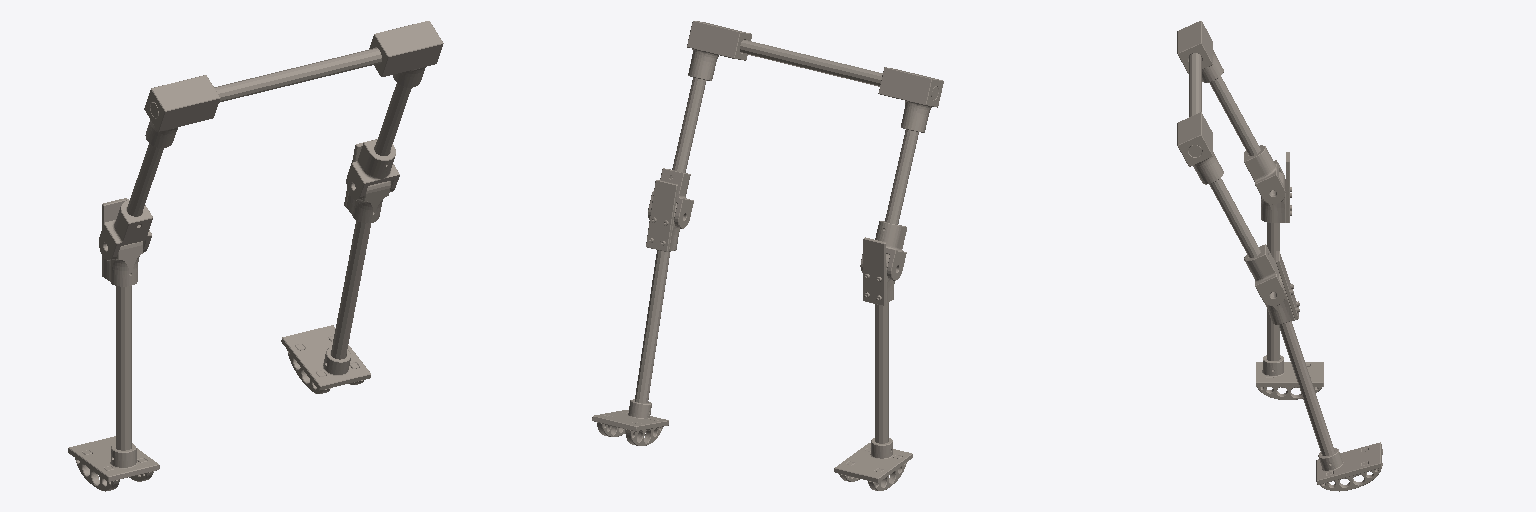
URDF robot description (walker_design_1):
<?xml version="1.0" encoding="utf-8"?>
<!-- This URDF was automatically created by SolidWorks to URDF Exporter! Originally created by [author] ([email redacted]) 
     Commit Version: 1.6.0-4-g7f85cfe  Build Version: 1.6.7995.38578
     For more information, please see http://wiki.ros.org/sw_urdf_exporter -->
<!-- TODO: change the upper and lower limits at the second joint -->
<robot
  name="walker_design_1">
  <link name="dummy_link"/>
  <link
    name="base_link">
    <inertial>
      <origin
        xyz="0 0 2"
        rpy="0 0 0" />
      <mass
        value="0.267569070401216" />
      <inertia
        ixx="0.000172536724393951"
        ixy="-4.59106713126127E-10"
        ixz="-2.17267395122548E-10"
        iyy="0.000161431716131306"
        iyz="1.0118448030555E-06"
        izz="2.96593847131024E-05" />
    </inertial>
    <visual>
      <origin
        xyz="0 0 0"
        rpy="0 0 0" />
      <geometry>
        <mesh
          filename="package://walker_design_1/meshes/base_link.STL" />
      </geometry>
      <material
        name="">
        <color
          rgba="0.650980392156863 0.619607843137255 0.588235294117647 1" />
      </material>
    </visual>
    <collision>
      <origin
        xyz="0 0 0"
        rpy="0 0 0" />
      <geometry>
        <mesh
          filename="package://walker_design_1/meshes/base_link.STL" />
      </geometry>
    </collision>
  </link>
  <link
    name="thigh_link_1">
    <inertial>
      <origin
        xyz="-0.00953945791134029 -0.000129062991743527 0.0839499793115811"
        rpy="0 0 0" />
      <mass
        value="0.25524657446684" />
      <inertia
        ixx="7.78739221155232E-05"
        ixy="4.02865801707096E-10"
        ixz="-3.95323831127016E-06"
        iyy="9.11682657457718E-05"
        iyz="2.77858621837004E-07"
        izz="2.706581153651E-05" />
    </inertial>
    <visual>
      <origin
        xyz="0 0 0"
        rpy="0 0 0" />
      <geometry>
        <mesh
          filename="package://walker_design_1/meshes/thigh_link_1.STL" />
      </geometry>
      <material
        name="">
        <color
          rgba="0.650980392156863 0.619607843137255 0.588235294117647 1" />
      </material>
    </visual>
    <collision>
      <origin
        xyz="0 0 0"
        rpy="0 0 0" />
      <geometry>
        <mesh
          filename="package://walker_design_1/meshes/thigh_link_1.STL" />
      </geometry>
    </collision>
  </link>
  <joint
    name="thigh_joint_1"
    type="revolute">
    <origin
      xyz="-0.0015 -0.011999 0.16702"
      rpy="0.45856 0 0" />
    <parent
      link="base_link" />
    <child
      link="thigh_link_1" />
    <axis
      xyz="-1 0 0" />
    <limit
      lower="0"
      upper="90"
      effort="0"
      velocity="0" />
  </joint>
  <link
    name="connector_link">
    <inertial>
      <origin
        xyz="-0.1 3.46944695195361E-17 -1.27502175484295E-16"
        rpy="0 0 0" />
      <mass
        value="0.123307511449196" />
      <inertia
        ixx="1.54134389311495E-06"
        ixy="-4.79350452801533E-38"
        ixz="1.60778208521315E-37"
        iyy="0.000411795710110543"
        iyz="0"
        izz="0.000411795710110543" />
    </inertial>
    <visual>
      <origin
        xyz="0 0 0"
        rpy="0 0 0" />
      <geometry>
        <mesh
          filename="package://walker_design_1/meshes/connector_link.STL" />
      </geometry>
      <material
        name="">
        <color
          rgba="0.650980392156863 0.619607843137255 0.588235294117647 1" />
      </material>
    </visual>
    <collision>
      <origin
        xyz="0 0 0"
        rpy="0 0 0" />
      <geometry>
        <mesh
          filename="package://walker_design_1/meshes/connector_link.STL" />
      </geometry>
    </collision>
  </link>
  <joint
    name="connector_joint"
    type="fixed">
    <origin
      xyz="0.17577 0 0.13"
      rpy="0 0 0" />
    <parent
      link="thigh_link_1" />
    <child
      link="connector_link" />
    <axis
      xyz="0 0 0" />
  </joint>
  <link
    name="thigh_link_2">
    <inertial>
      <origin
        xyz="-0.0164605420028372 0.000129066384933044 0.0839499790240118"
        rpy="0 0 0" />
      <mass
        value="0.25524656944688" />
      <inertia
        ixx="7.78739206764643E-05"
        ixy="3.9246857771927E-10"
        ixz="3.95323798701744E-06"
        iyy="9.11682648928613E-05"
        iyz="-2.77848228072881E-07"
        izz="2.70658110891737E-05" />
    </inertial>
    <visual>
      <origin
        xyz="0 0 0"
        rpy="0 0 0" />
      <geometry>
        <mesh
          filename="package://walker_design_1/meshes/thigh_link_2.STL" />
      </geometry>
      <material
        name="">
        <color
          rgba="0.650980392156863 0.619607843137255 0.588235294117647 1" />
      </material>
    </visual>
    <collision>
      <origin
        xyz="0 0 0"
        rpy="0 0 0" />
      <geometry>
        <mesh
          filename="package://walker_design_1/meshes/thigh_link_2.STL" />
      </geometry>
    </collision>
  </link>
  <joint
    name="thigh_joint_2"
    type="fixed">
    <origin
      xyz="0.0017718 0 -0.13"
      rpy="0 0 0" />
    <parent
      link="connector_link" />
    <child
      link="thigh_link_2" />
    <axis
      xyz="0 0 0" />
  </joint>
  <link
    name="lower_link">
    <inertial>
      <origin
        xyz="-0.0130539226356477 -0.00885513535772918 -0.0820532781324108"
        rpy="0 0 0" />
      <mass
        value="0.267567622452129" />
      <inertia
        ixx="0.000172536649282375"
        ixy="-4.81211750953558E-10"
        ixz="-1.37917356646175E-10"
        iyy="0.00015821524648614"
        iyz="-2.03604488347275E-05"
        izz="3.28757283872742E-05" />
    </inertial>
    <visual>
      <origin
        xyz="0 0 0"
        rpy="0 0 0" />
      <geometry>
        <mesh
          filename="package://walker_design_1/meshes/lower_link.STL" />
      </geometry>
      <material
        name="">
        <color
          rgba="0.650980392156863 0.619607843137255 0.588235294117647 1" />
      </material>
    </visual>
    <collision>
      <origin
        xyz="0 0 0"
        rpy="0 0 0" />
      <geometry>
        <mesh
          filename="package://walker_design_1/meshes/lower_link.STL" />
      </geometry>
    </collision>
  </link>
  <joint
    name="lower_joint"
    type="revolute">
    <origin
      xyz="0 0 0"
      rpy="0 0 0" />
    <parent
      link="thigh_link_2" />
    <child
      link="lower_link" />
    <axis
      xyz="1 0 0" />
    <limit
      lower="-45"
      upper="45"
      effort="0"
      velocity="0" />
  </joint>
  <joint name="dummy_to_base_joint" type="fixed">  
    <parent link="dummy_link"/>  
    <child link="base_link"/>  
  </joint>
</robot>

--- Render facts (derived) ---
3 views of the same robot in one strip: view 1: azimuth 30°, elevation 25°; view 2: azimuth 150°, elevation 25°; view 3: azimuth 270°, elevation 25° (orthographic).
Robot: walker_design_1 — 6 links, 5 joints (2 revolute, 3 fixed); root link dummy_link; default pose: every joint at zero.
Links seen in each view (by area): view 1: base_link, lower_link, thigh_link_1, thigh_link_2, connector_link; view 2: base_link, lower_link, thigh_link_1, thigh_link_2, connector_link; view 3: lower_link, thigh_link_2, thigh_link_1, base_link, connector_link.
Boxes of the visible links, left/top/right/bottom form: base_link: left=68, top=198, right=159, bottom=491; lower_link: left=281, top=139, right=390, bottom=393; thigh_link_1: left=99, top=75, right=219, bottom=260; thigh_link_2: left=346, top=21, right=443, bottom=200; connector_link: left=150, top=48, right=381, bottom=117; base_link: left=834, top=237, right=912, bottom=490; lower_link: left=592, top=180, right=679, bottom=445; thigh_link_1: left=860, top=67, right=943, bottom=280; thigh_link_2: left=648, top=21, right=751, bottom=228; connector_link: left=740, top=40, right=938, bottom=99; lower_link: left=1265, top=251, right=1382, bottom=491; thigh_link_2: left=1177, top=112, right=1285, bottom=305; thigh_link_1: left=1177, top=21, right=1285, bottom=204; base_link: left=1256, top=152, right=1323, bottom=399; connector_link: left=1189, top=53, right=1201, bottom=156.
Size in the robot's own frame: 0.2145 by 0.1513 by 0.2985 metres.
Meshes: 5 distinct files referenced, 5 mesh visuals loaded (5 binary STL).
